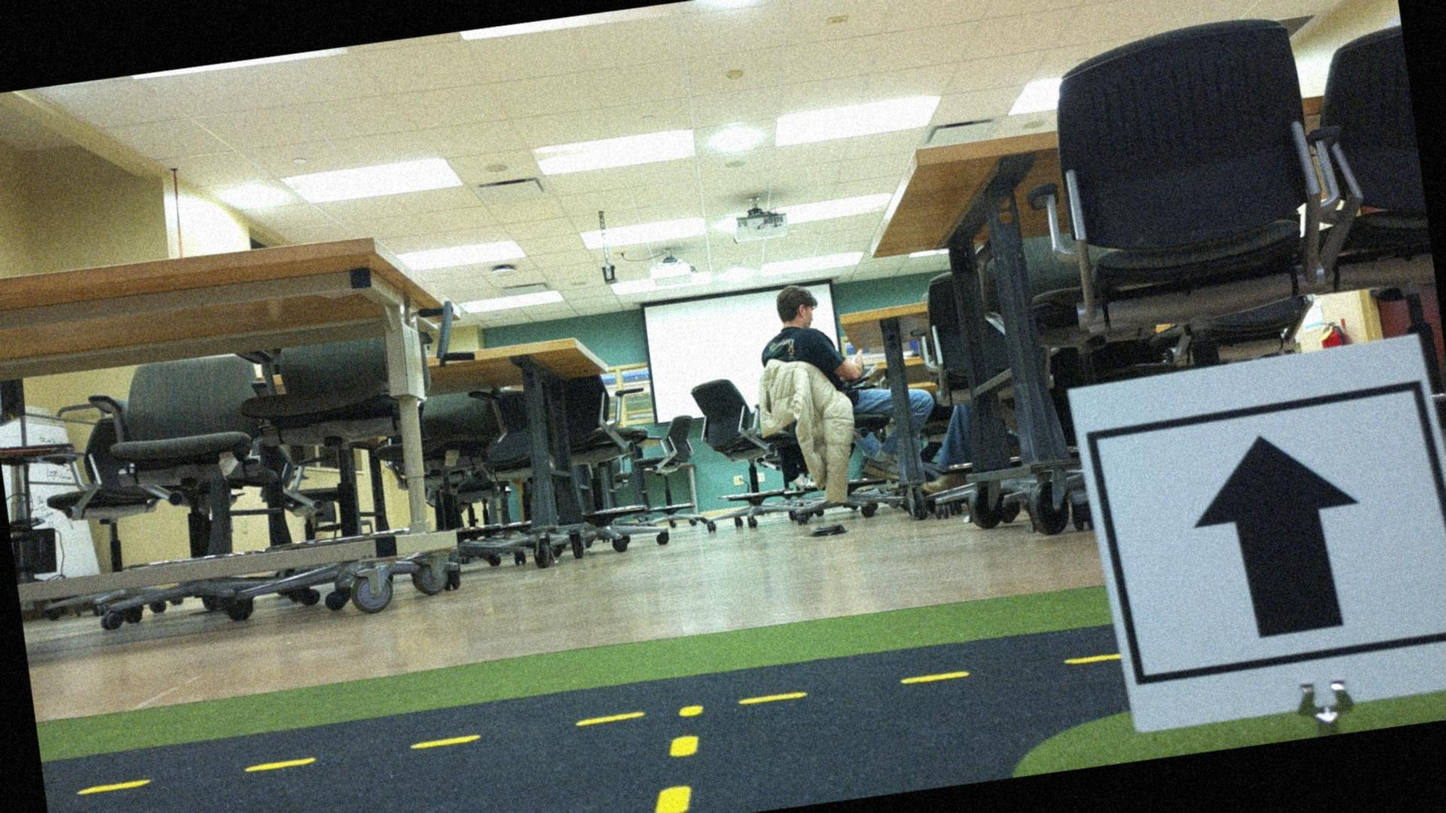gostraight: (1077, 328, 1445, 738)
yellowline: (51, 645, 1117, 801), (642, 699, 712, 812)
